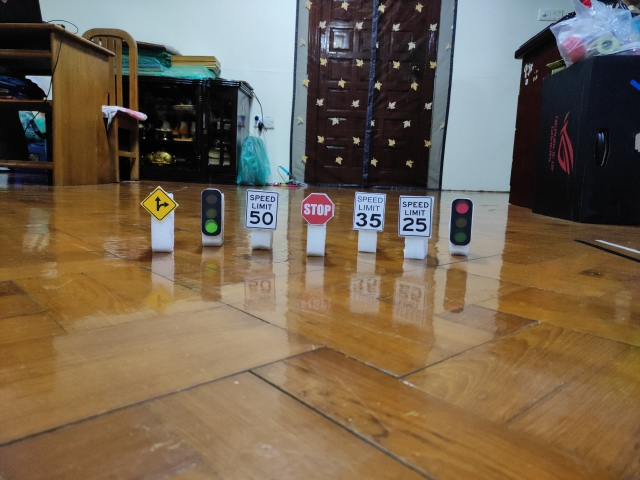Green Traffic Light: (201, 186, 223, 235)
Red Traffic Light: (449, 198, 474, 245)
Speed Limit 25: (398, 193, 435, 237)
Speed Limit 35: (353, 192, 387, 230)
Speed Limit 50: (245, 190, 280, 228)
Stop Sign: (300, 193, 335, 225)
Straight Or Right Sign: (141, 186, 177, 220)
